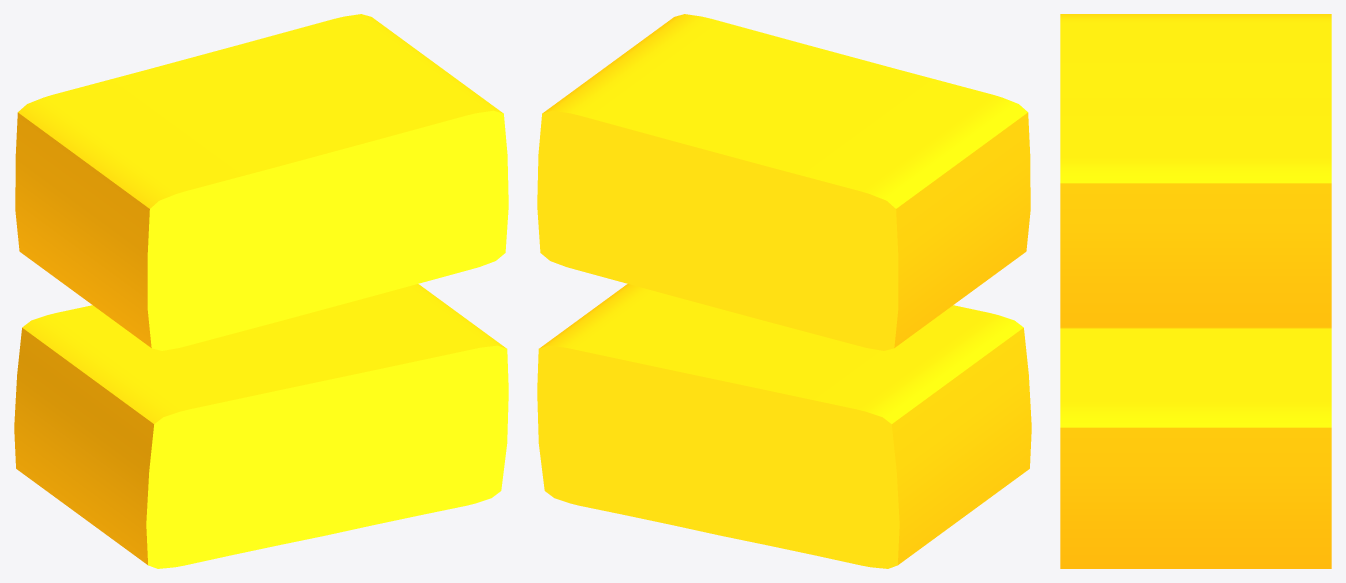
Rendered from symbol=_Zyzol_Yellow.glb.
3 renders of one model, left to right at view 1: azimuth 30°, elevation 25°; view 2: azimuth 150°, elevation 25°; view 3: azimuth 270°, elevation 25°, orthographic. The views are drawn at different scales.
Visible parts, largest first — view 1: =_Zyzol_Yellow; view 2: =_Zyzol_Yellow; view 3: =_Zyzol_Yellow.
Boxes of the visible parts, x1,y1,x2,y2 form: =_Zyzol_Yellow: [14, 14, 508, 568]; =_Zyzol_Yellow: [537, 14, 1031, 568]; =_Zyzol_Yellow: [1060, 14, 1331, 568].
Size of what is drawn, in the model's own units: 0.0713 by 0.0733 by 0.045.
2 materials, 2 textured.
